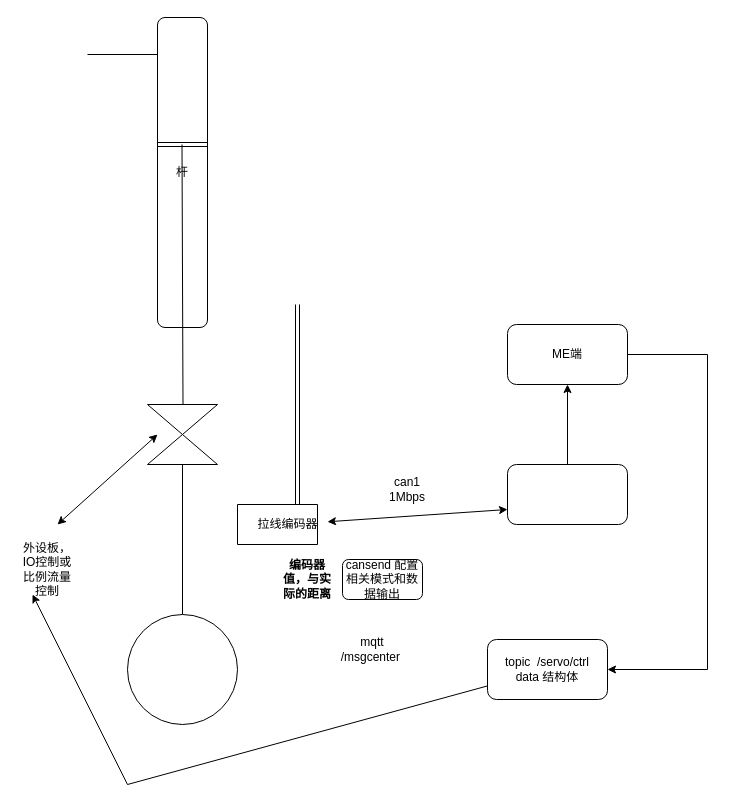
Image size: 733x810. Some labels were removed from this diagram. Each missing label, with the box of its shape:
油缸: (126, 614, 238, 724)
虚拟伺服: (506, 464, 628, 524)
